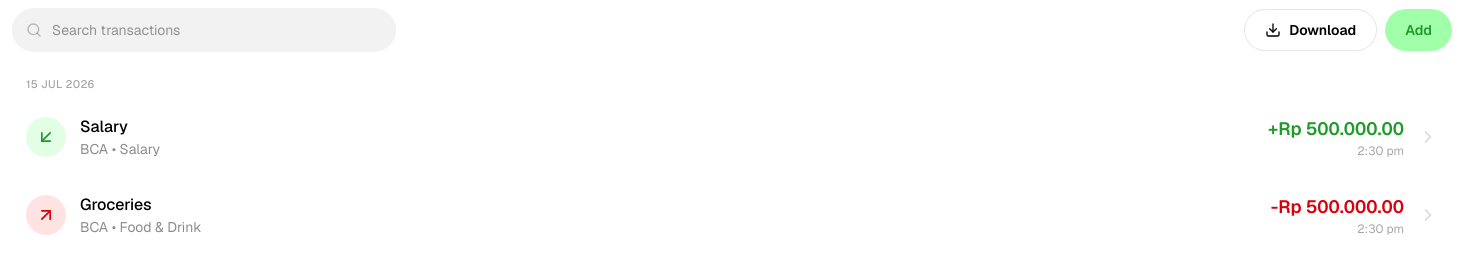
Test: TransactionsView — search filtering › shows 'No transactions found' when search has no matches
Type "xyz" into the field with placeholder "Search transactions". click: (204, 30)
box: [12,8,396,52]
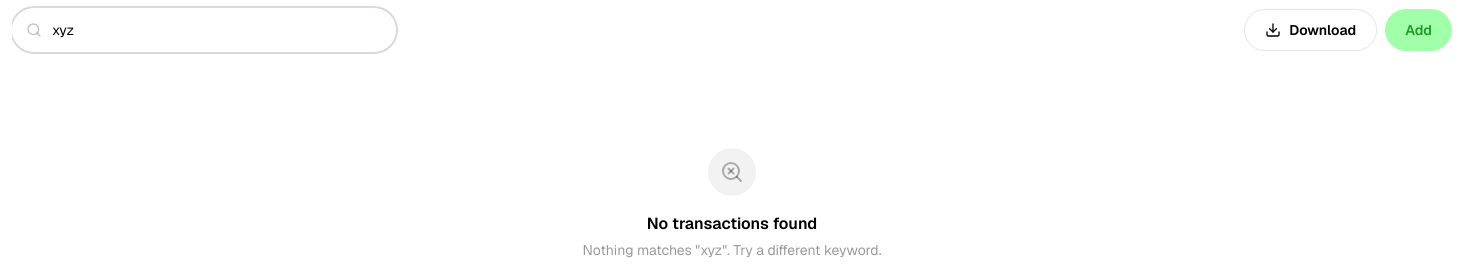
Result: the text "No transactions found" is shown at [647,212,817,236]
